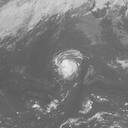cyclone: (51, 48, 88, 82)
